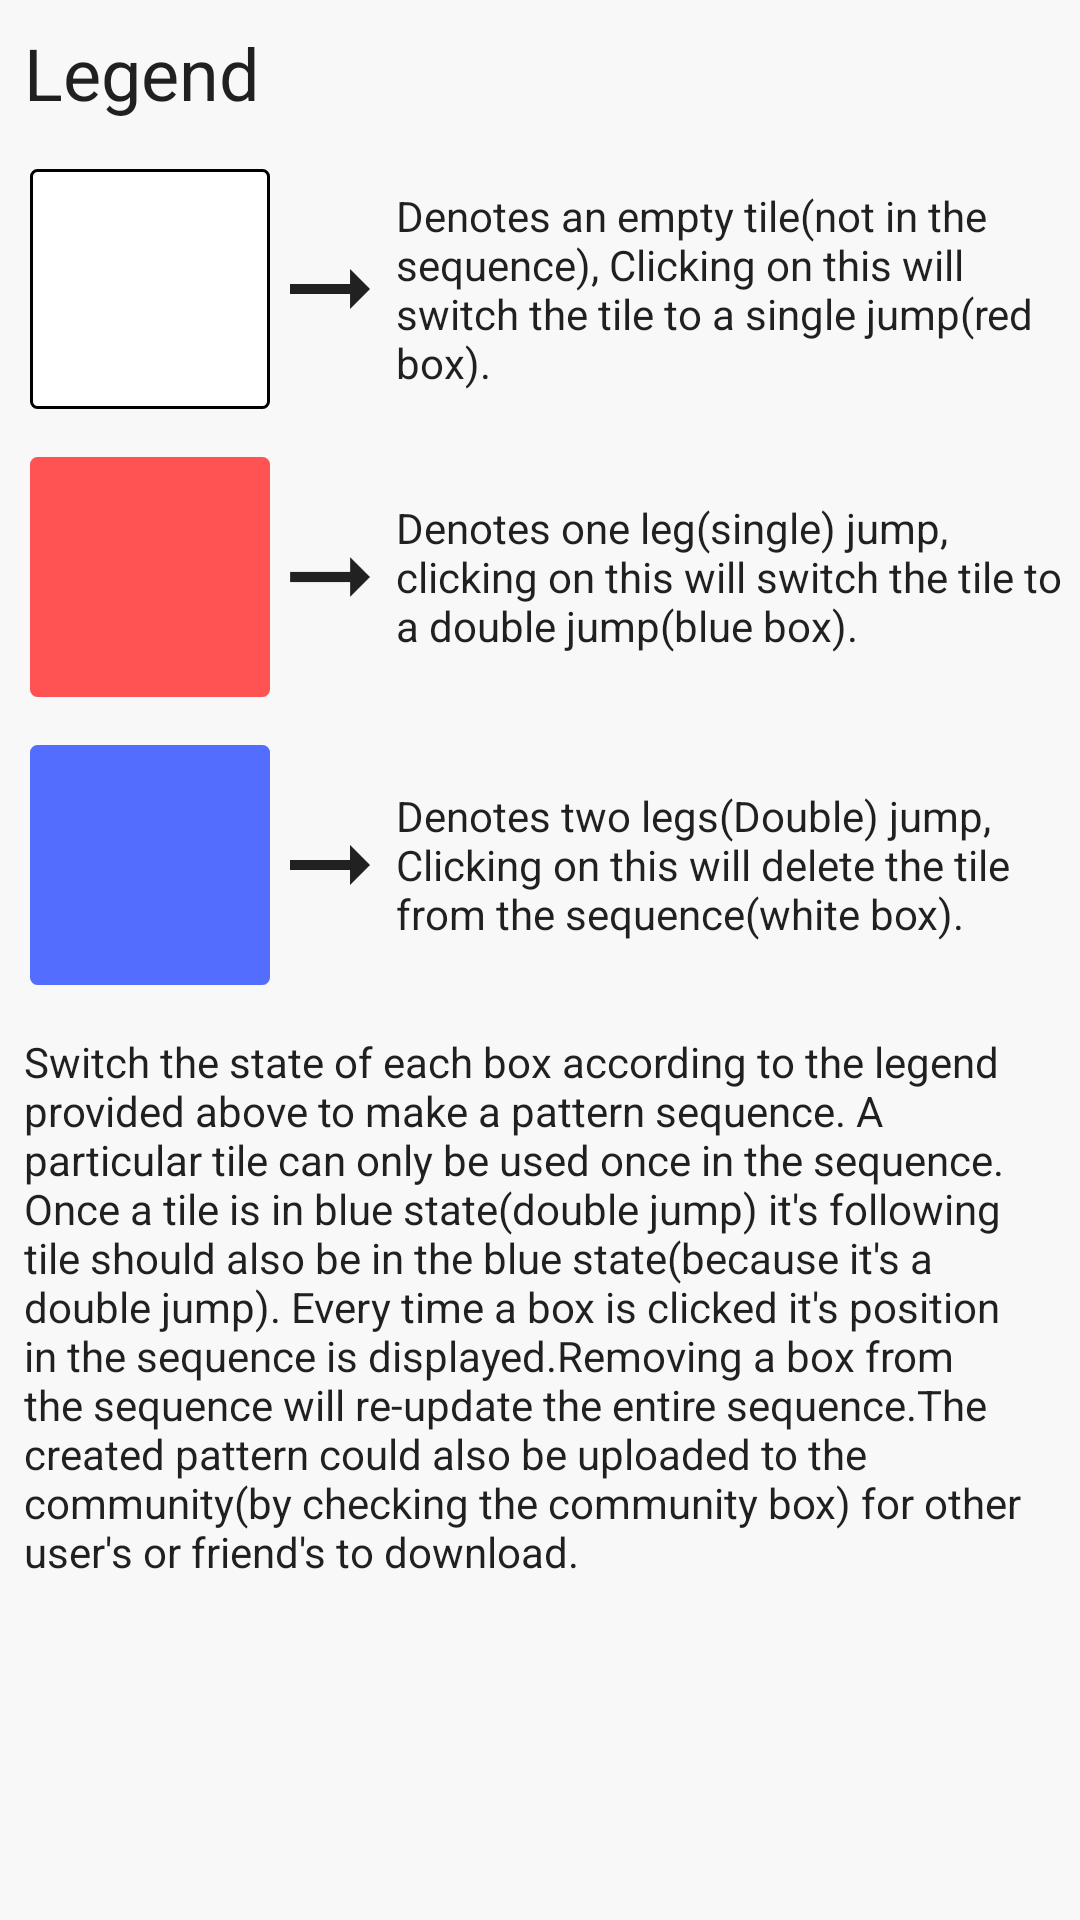

Icon bounding boxes for this 1080w x 1920h phone screenshot, format region(x1, y1, x2, y2):
arrow right: region(290, 269, 370, 309), region(290, 557, 370, 597), region(290, 845, 370, 885)
